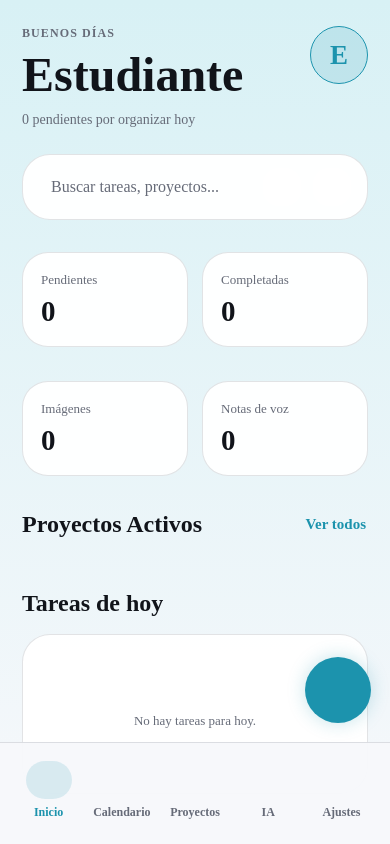
it: Navigation › navigates to IA tab
Step 1. Click the tab with aria-label "Pestaña IA" → (268, 812), box [262,805,275,819]
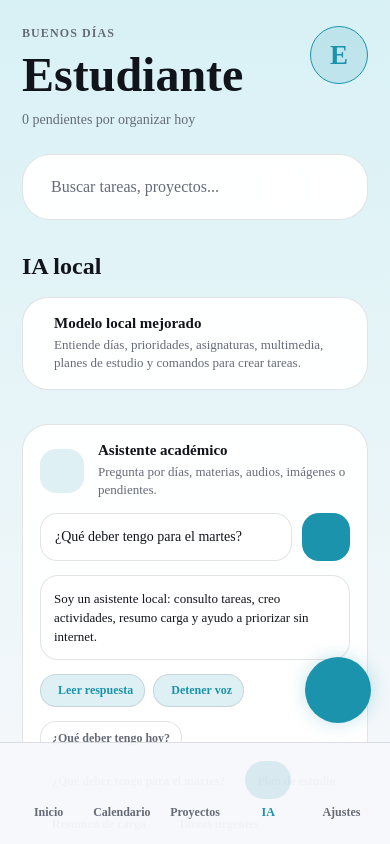
Now the text "Asistente académico" is shown, box [98,442,228,458]
Now the text "Tareas de hoy" is gone
